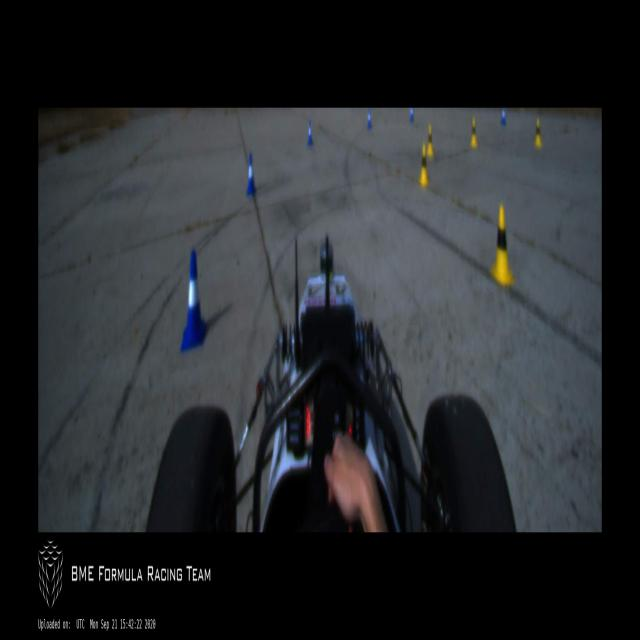blue_cone: (181, 249, 206, 351), (246, 154, 256, 197), (307, 121, 313, 147), (501, 108, 506, 125), (367, 108, 371, 129), (410, 109, 414, 123)
yellow_cone: (488, 205, 516, 287), (420, 143, 430, 188), (534, 117, 543, 148), (427, 122, 434, 158), (470, 118, 478, 148)
